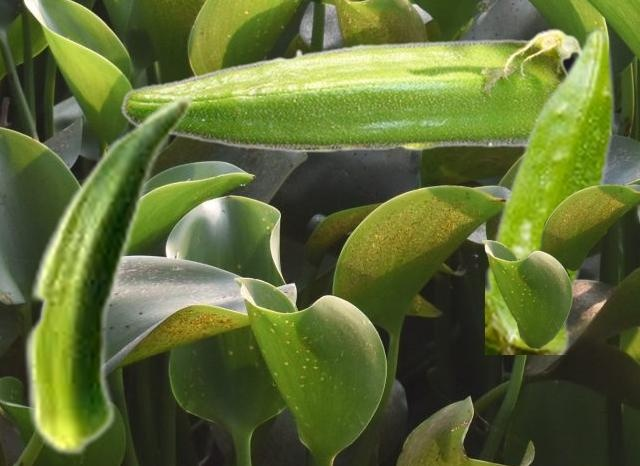okra: (23, 95, 192, 456), (120, 27, 580, 152), (485, 25, 615, 353)
